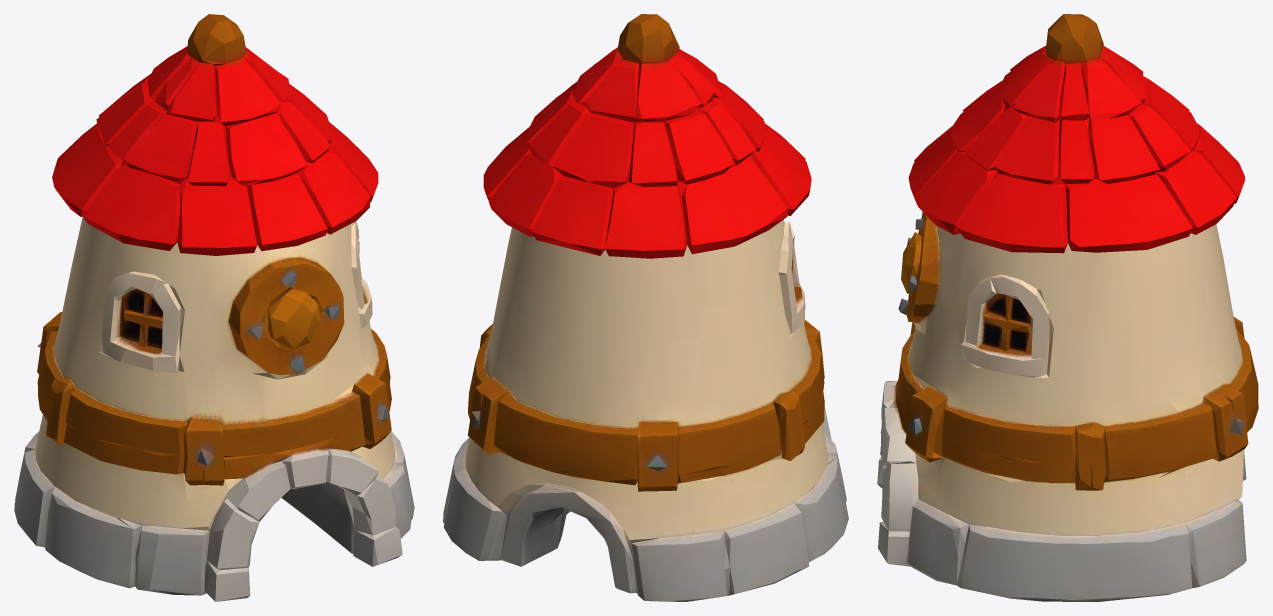
The model's file is windmill.glb.
3 renders of one model, left to right at view 1: azimuth 30°, elevation 25°; view 2: azimuth 150°, elevation 25°; view 3: azimuth 270°, elevation 25°, orthographic.
Parts seen in each view (by area): view 1: model; view 2: model; view 3: model.
Part boxes in pixels (<box>): model: <box>14,14,414,601</box>; model: <box>443,14,848,601</box>; model: <box>877,14,1258,601</box>.
Bounding box in the file's own units: 1.35 × 1.9 × 1.3.
Materials: 1 (1 with a texture image).
